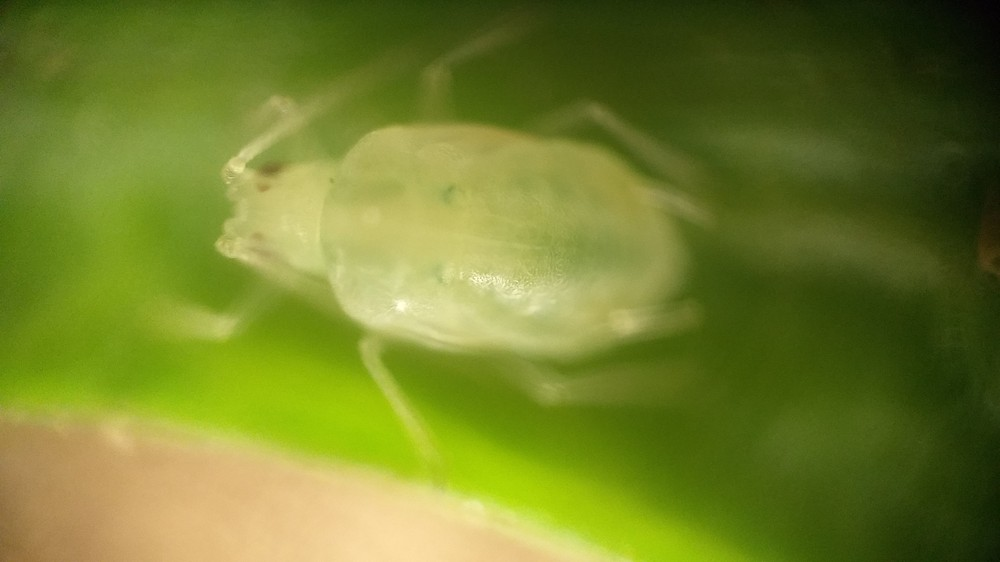Pulgon: (158, 22, 822, 478)
